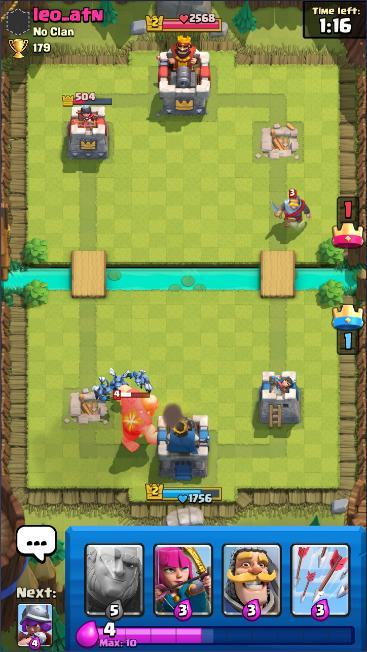ally_minion: (123, 365, 156, 395), (105, 366, 134, 395), (91, 374, 116, 404)
enemy_giant: (113, 384, 160, 455)
enemy_knight: (268, 187, 312, 229)
